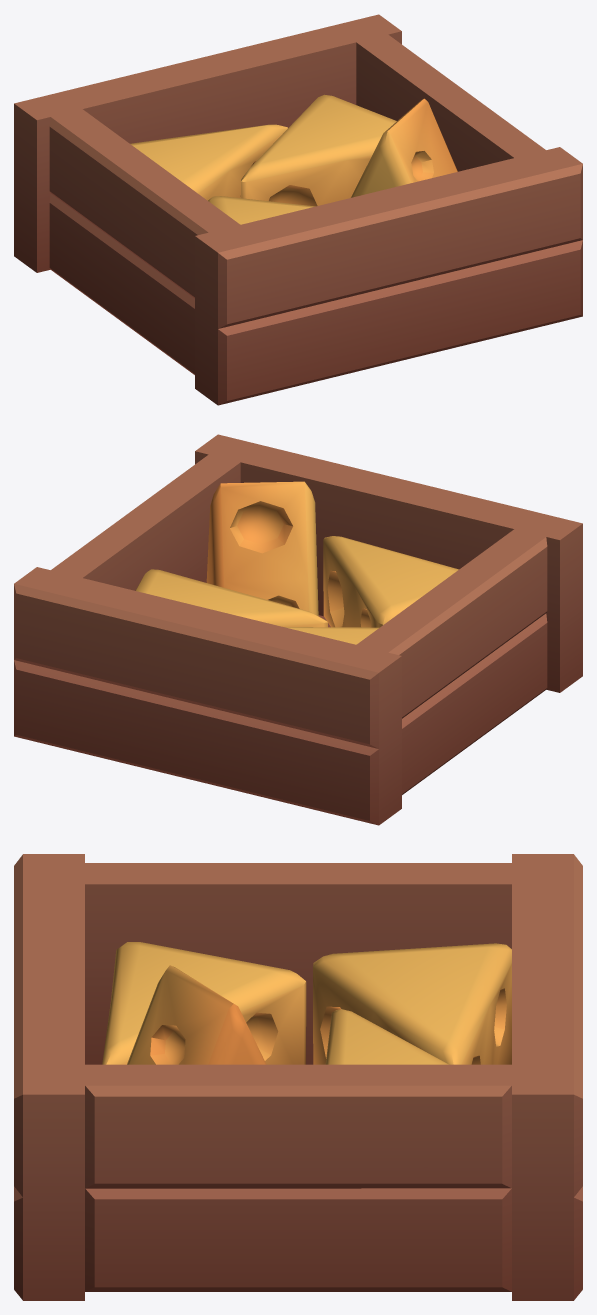
The model's file is re-crate_cheese.glb.
The picture shows the model from 3 angles, top to bottom: view 1: azimuth 30°, elevation 25°; view 2: azimuth 150°, elevation 25°; view 3: azimuth 270°, elevation 25°; orthographic projection. The views are drawn at different scales.
Parts seen in each view (by area): view 1: crate_cheese; view 2: crate_cheese; view 3: crate_cheese.
Part boxes in pixels (left/top/right/bottom): crate_cheese: left=14, top=14, right=582, bottom=405; crate_cheese: left=14, top=434, right=582, bottom=825; crate_cheese: left=14, top=854, right=582, bottom=1300.
Bounding box in the file's own units: 2 × 0.946 × 2.
Materials: 1 (1 with a texture image).
